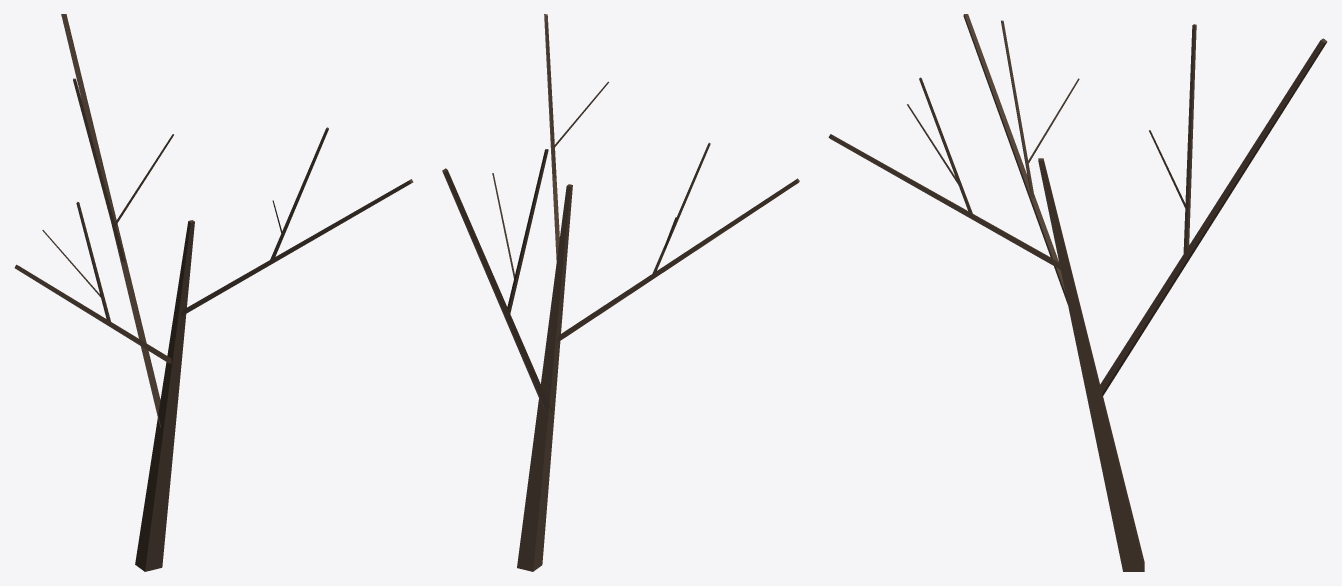
Rendered from SM_DeadPlant.fbx.
3 views of the same model, side by side, from view 1: azimuth 30°, elevation 25°; view 2: azimuth 150°, elevation 25°; view 3: azimuth 270°, elevation 25° (orthographic). The views are drawn at different scales.
Parts seen in each view (by area): view 1: SM_DeadPlant; view 2: SM_DeadPlant; view 3: SM_DeadPlant.
Part boxes in pixels (x1,y1,x2,y2): SM_DeadPlant: (14, 14, 413, 571); SM_DeadPlant: (442, 14, 799, 571); SM_DeadPlant: (828, 14, 1327, 571).
Size of the model in its own units: 172 by 240 by 204.
